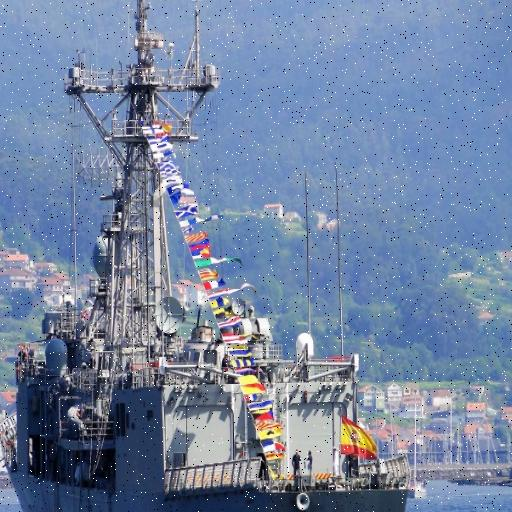Fragata: (1, 1, 412, 512)
